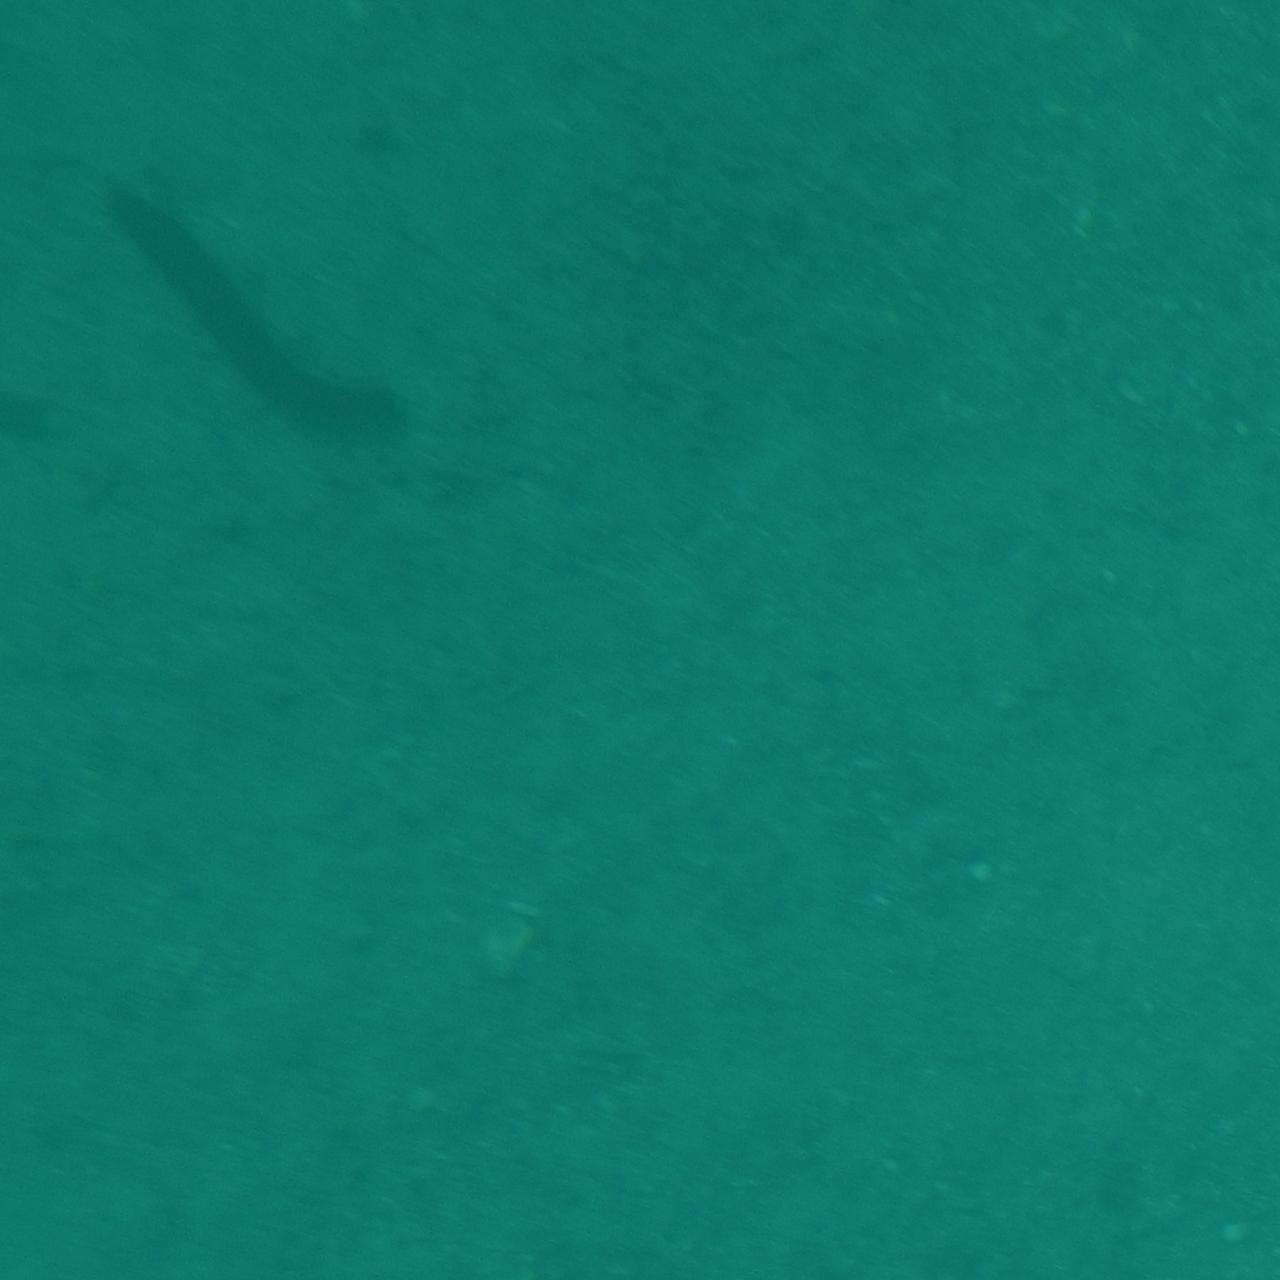Holothuria tubulosa: (98, 179, 420, 443)
